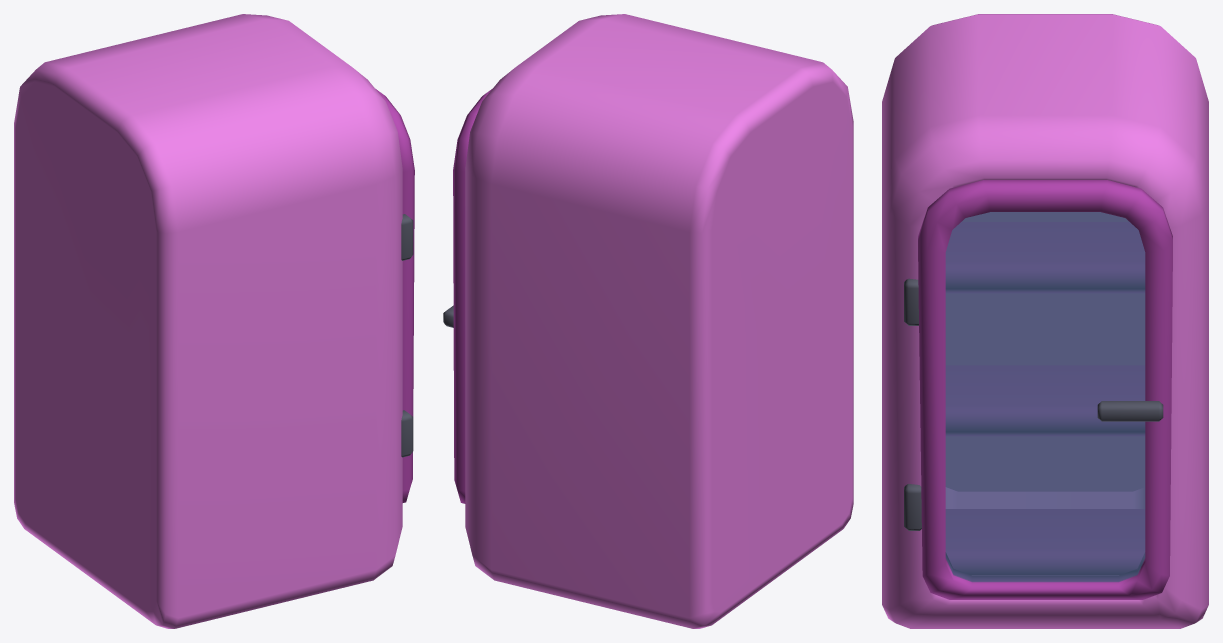
The model's file is mdl_fridge.fbx.
The picture shows the model from 3 angles, left to right: view 1: azimuth 30°, elevation 25°; view 2: azimuth 150°, elevation 25°; view 3: azimuth 270°, elevation 25°; orthographic projection. The views are drawn at different scales.
Visible parts, largest first — view 1: pCube25, pCube27; view 2: pCube25, pCube27; view 3: pCube25, pCube27.
Part boxes in pixels (<box>): pCube25: <box>14,14,402,628</box>; pCube27: <box>375,88,414,502</box>; pCube25: <box>465,14,853,628</box>; pCube27: <box>443,88,492,503</box>; pCube25: <box>882,14,1208,628</box>; pCube27: <box>904,180,1172,599</box>.
Size of the model in its own units: 83.27 by 136 by 79.42.
